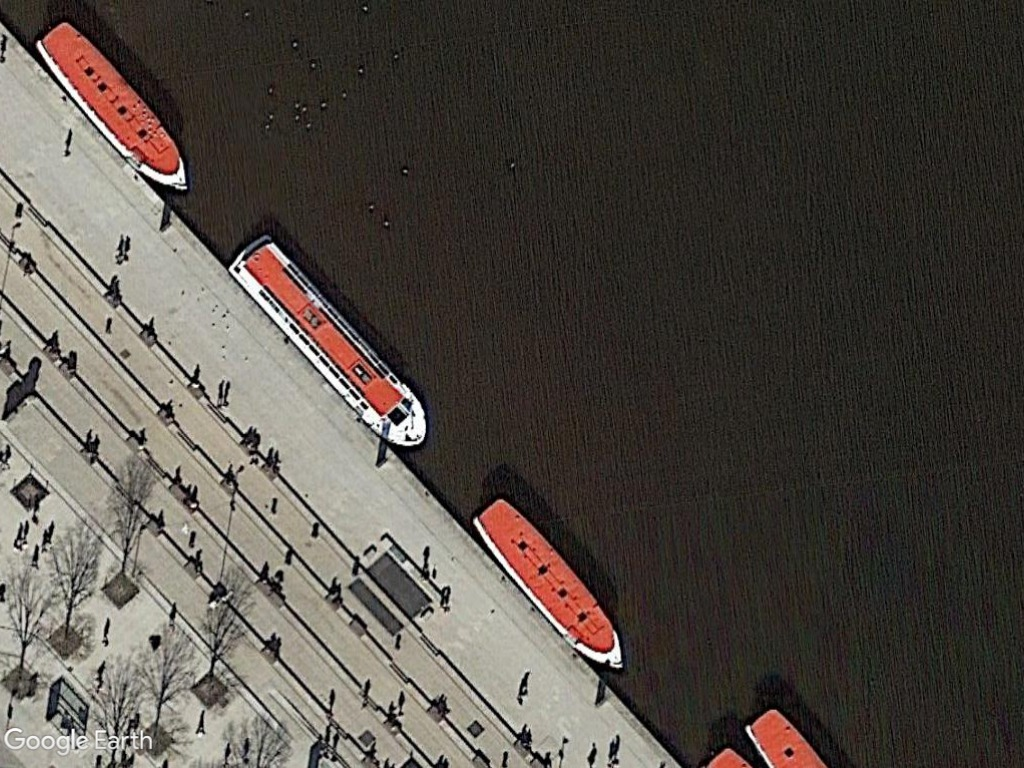boat: (229, 229, 435, 454), (469, 490, 630, 677), (33, 18, 193, 198)
